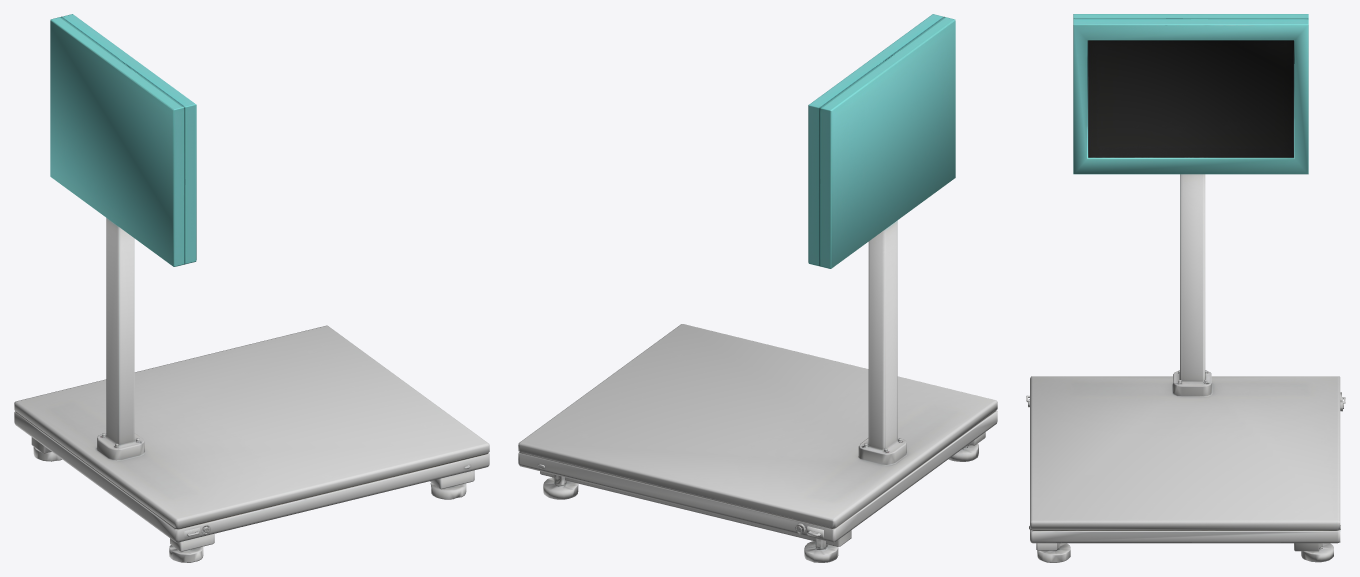
The picture shows the model from 3 angles, left to right: view 1: azimuth 30°, elevation 25°; view 2: azimuth 150°, elevation 25°; view 3: azimuth 270°, elevation 25°; orthographic projection. The views are drawn at different scales.
Parts seen in each view (by area): view 1: tripo_node_883b2024-45c1-46b6-82e5-8ee5ae188d50; view 2: tripo_node_883b2024-45c1-46b6-82e5-8ee5ae188d50; view 3: tripo_node_883b2024-45c1-46b6-82e5-8ee5ae188d50.
Boxes of the visible parts, x1,y1,x2,y2 form: tripo_node_883b2024-45c1-46b6-82e5-8ee5ae188d50: (14,14,489,562); tripo_node_883b2024-45c1-46b6-82e5-8ee5ae188d50: (518,14,997,562); tripo_node_883b2024-45c1-46b6-82e5-8ee5ae188d50: (1026,14,1345,562).
Size of the model in its own units: 0.748 by 0.998 by 0.6895.
1 material, 1 textured.
